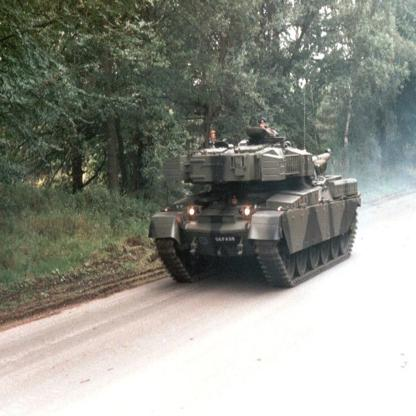Tank: (147, 123, 365, 295)
